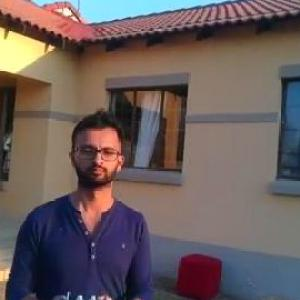follow: (0, 103, 156, 299)
null: (244, 278, 299, 299)
